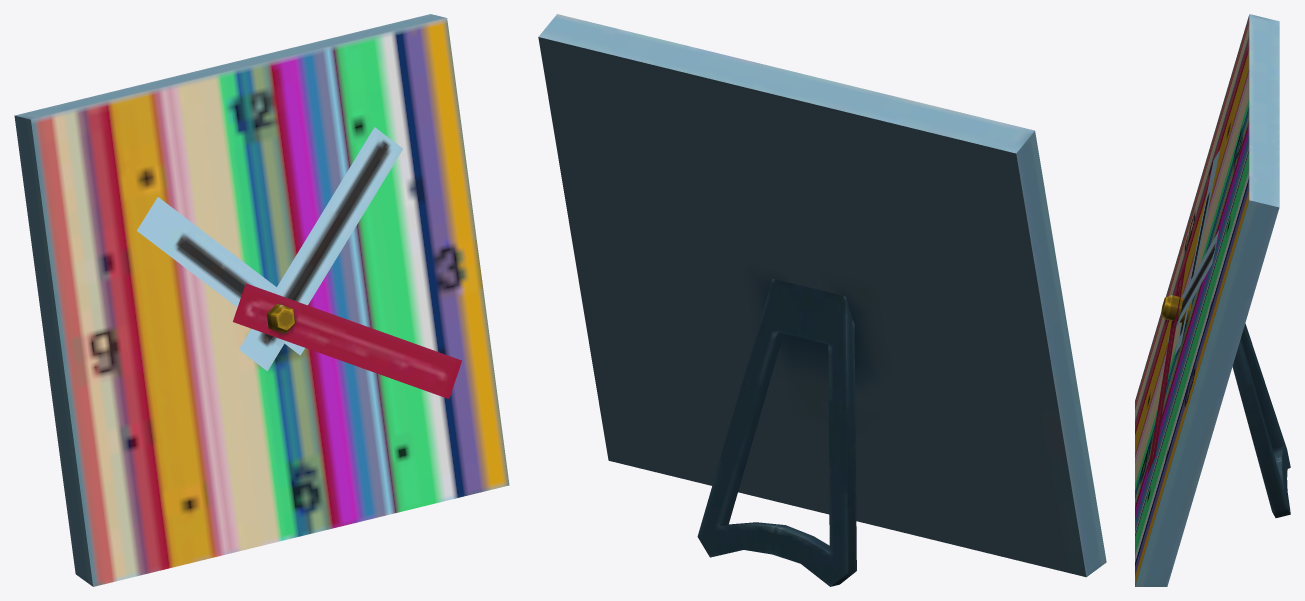
Rendered from furni_0200625.FBX.
The picture shows the model from 3 angles, left to right: view 1: azimuth 30°, elevation 25°; view 2: azimuth 150°, elevation 25°; view 3: azimuth 270°, elevation 25°; orthographic projection. The views are drawn at different scales.
Visible parts, largest first — view 1: furni_0200625; view 2: furni_0200625; view 3: furni_0200625.
Boxes of the visible parts, x1,y1,x2,y2 form: furni_0200625: (14,14,509,586); furni_0200625: (538,14,1106,586); furni_0200625: (1135,14,1290,586).
Bounding box in the file's own units: 29.97 × 29.1 × 10.59.
1 material, 1 textured.
